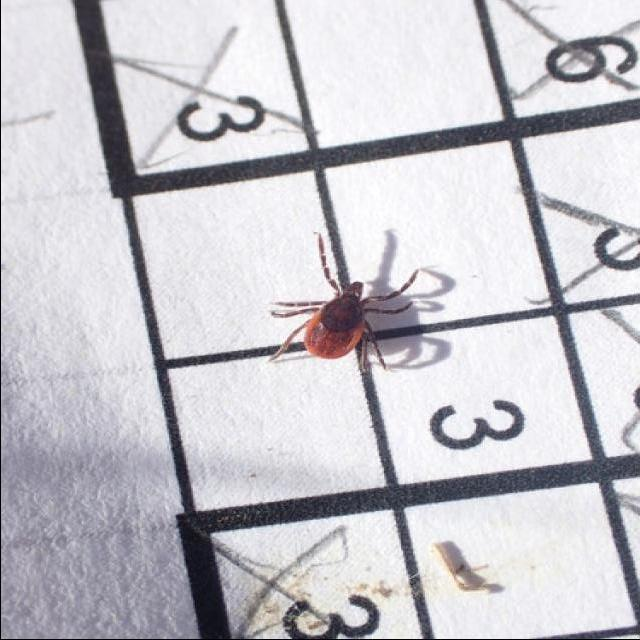Ixodes Ricinus-F: (270, 233, 420, 374)
